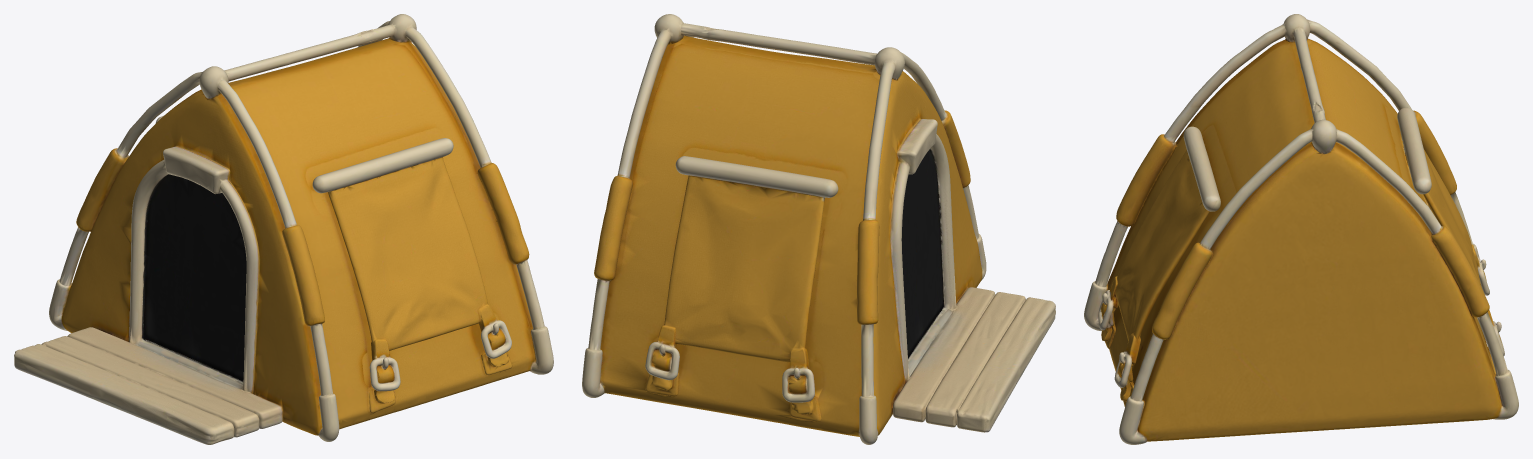
The model's file is CampTentBody.glb.
3 views of the same model, side by side, from view 1: azimuth 30°, elevation 25°; view 2: azimuth 150°, elevation 25°; view 3: azimuth 270°, elevation 25° (orthographic). The views are drawn at different scales.
Parts seen in each view (by area): view 1: tripo_node_2eb9aad8-9c78-4420-93e9-ea0e1459edda; view 2: tripo_node_2eb9aad8-9c78-4420-93e9-ea0e1459edda; view 3: tripo_node_2eb9aad8-9c78-4420-93e9-ea0e1459edda.
Boxes of the visible parts, bbox=[...] form: tripo_node_2eb9aad8-9c78-4420-93e9-ea0e1459edda: bbox=[14, 14, 553, 444]; tripo_node_2eb9aad8-9c78-4420-93e9-ea0e1459edda: bbox=[582, 14, 1055, 444]; tripo_node_2eb9aad8-9c78-4420-93e9-ea0e1459edda: bbox=[1084, 14, 1518, 444].
Bounding box in the file's own units: 0.9795 × 0.7224 × 0.9095.
1 material, 1 textured.
